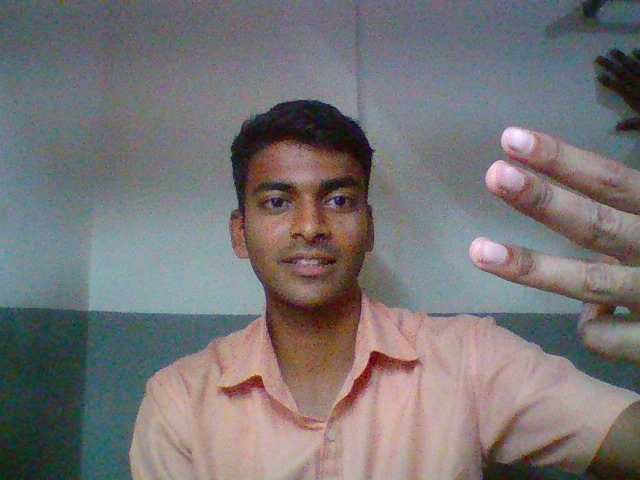E: (441, 112, 640, 384)
